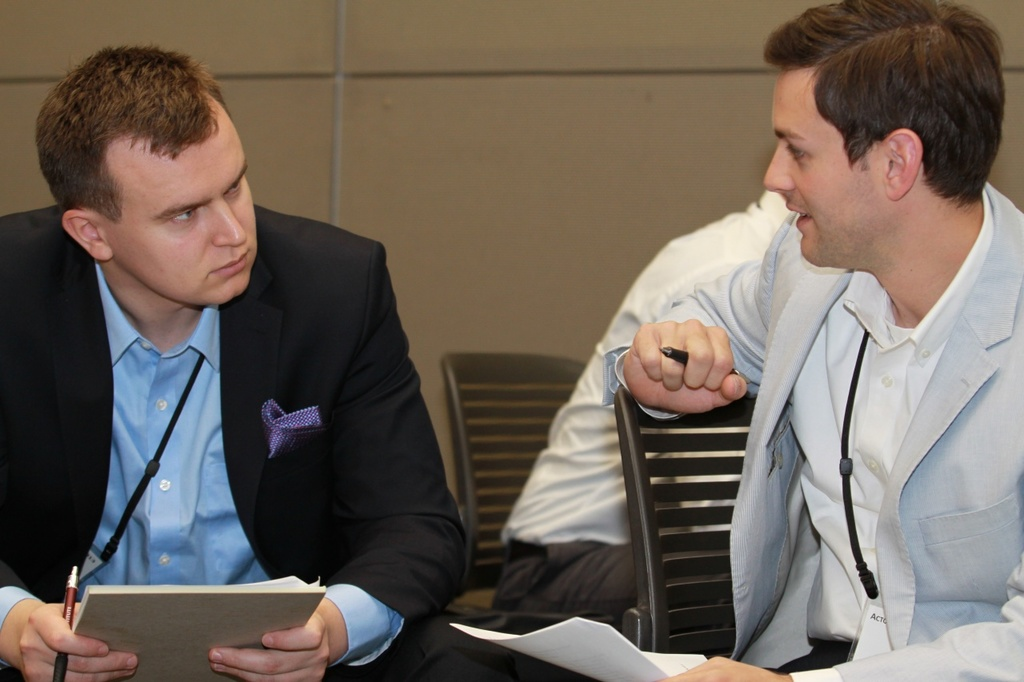Human_hand: (623, 317, 748, 415), (18, 602, 138, 681), (210, 609, 330, 681), (652, 657, 793, 681)
